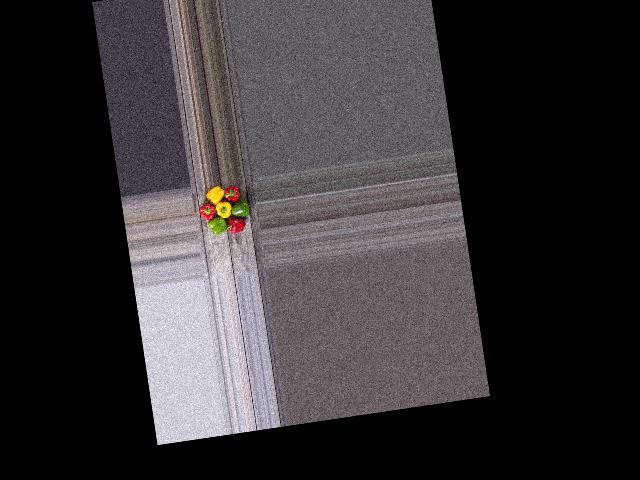bell_pepper: (220, 181, 241, 203)
